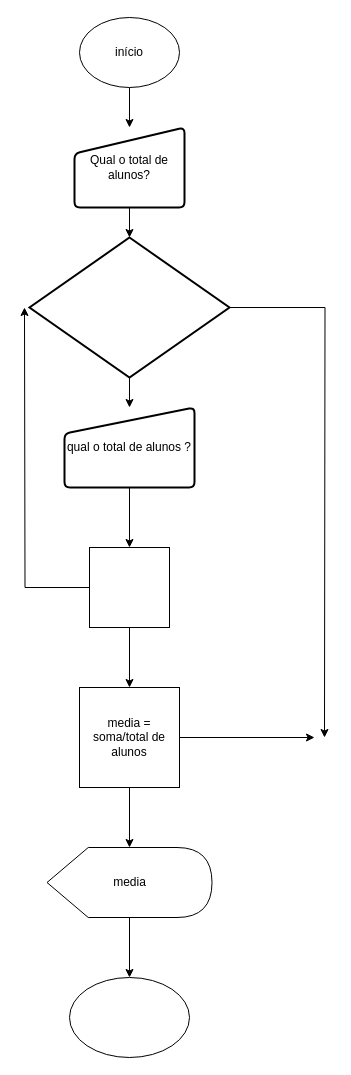
Image size: 351x1075. Some labels were removed from this diagram. The box of each missing label's shape, as (x1, y1, x2, y2) in pixels:
fim: (68, 976, 190, 1058)
i=1 até i=total de alunos send0 i=++: (28, 236, 230, 378)
soma= soma+nota: (88, 546, 170, 628)
